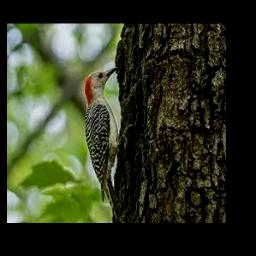Woodpecker: (85, 66, 136, 216)
